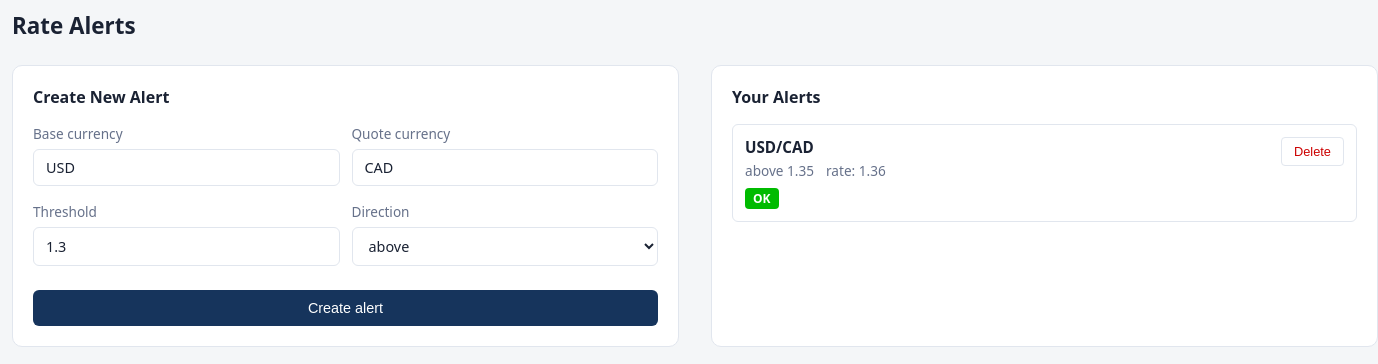
Test: AlertsPanel › deleting alerts › shows error message on deleteAlert failure
Click the button with class "delete-btn" at (1312, 152), box [1281, 137, 1344, 166]
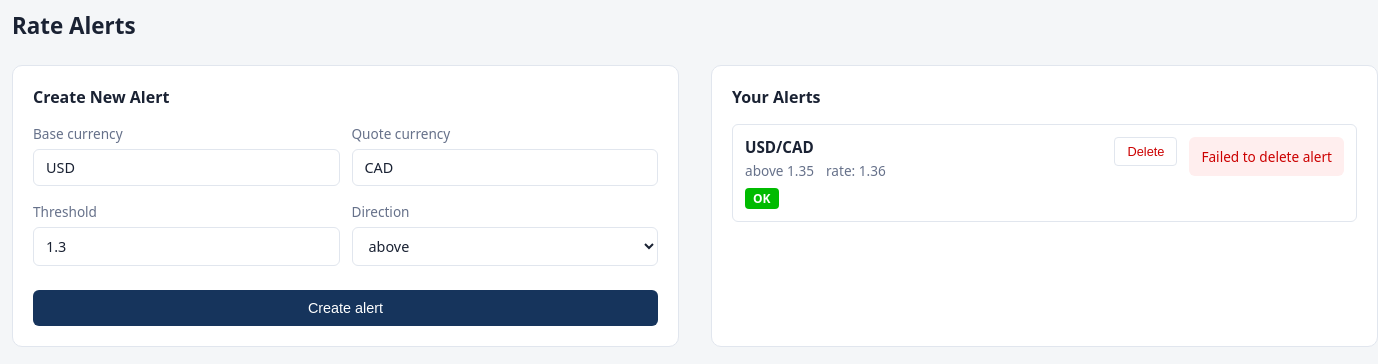
Result: the text "Failed to delete alert" is shown at [1189, 137, 1344, 176]
